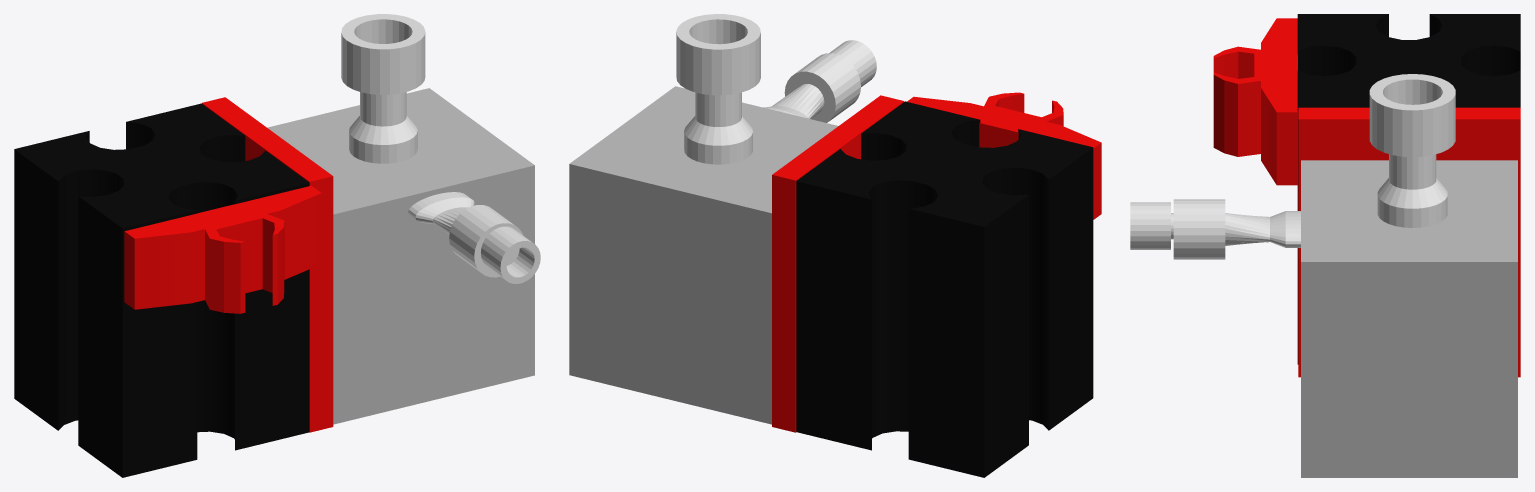
Rendered from PnuematicTubeDisconnection_Anim (1).FBX.
3 views of the same model, side by side, from view 1: azimuth 30°, elevation 25°; view 2: azimuth 150°, elevation 25°; view 3: azimuth 270°, elevation 25° (orthographic). The views are drawn at different scales.
Parts seen in each view (by area): view 1: PnuematicArms_1, Box111, Box113, Cylinder038, Box112, Cylinder039, Cylinder040; view 2: PnuematicArms_1, Box111, Cylinder038, Box112, Box113, Cylinder039, Cylinder040; view 3: Box111, PnuematicArms_1, Box113, Cylinder038, Box112, Cylinder039, Cylinder040.
Part boxes in pixels (x1,y1,x2,y2): PnuematicArms_1: (14,103,309,477); Box111: (267,88,534,424); Box113: (124,185,321,313); Cylinder038: (341,14,425,163); Box112: (201,97,333,432); Cylinder039: (408,192,523,277); Cylinder040: (481,226,540,283); PnuematicArms_1: (796,101,1093,477); Box111: (569,86,838,424); Cylinder038: (676,14,760,164); Box112: (772,95,904,432); Box113: (907,92,1101,219); Cylinder039: (763,53,860,122); Cylinder040: (829,40,876,86); Box111: (1301,160,1517,477); PnuematicArms_1: (1297,14,1520,364); Box113: (1213,18,1297,185); Cylinder038: (1369,74,1455,227); Box112: (1298,107,1520,377); Cylinder039: (1173,199,1300,259); Cylinder040: (1130,202,1173,249).
Size of the model in its own units: 14.14 by 10.73 by 11.22.
